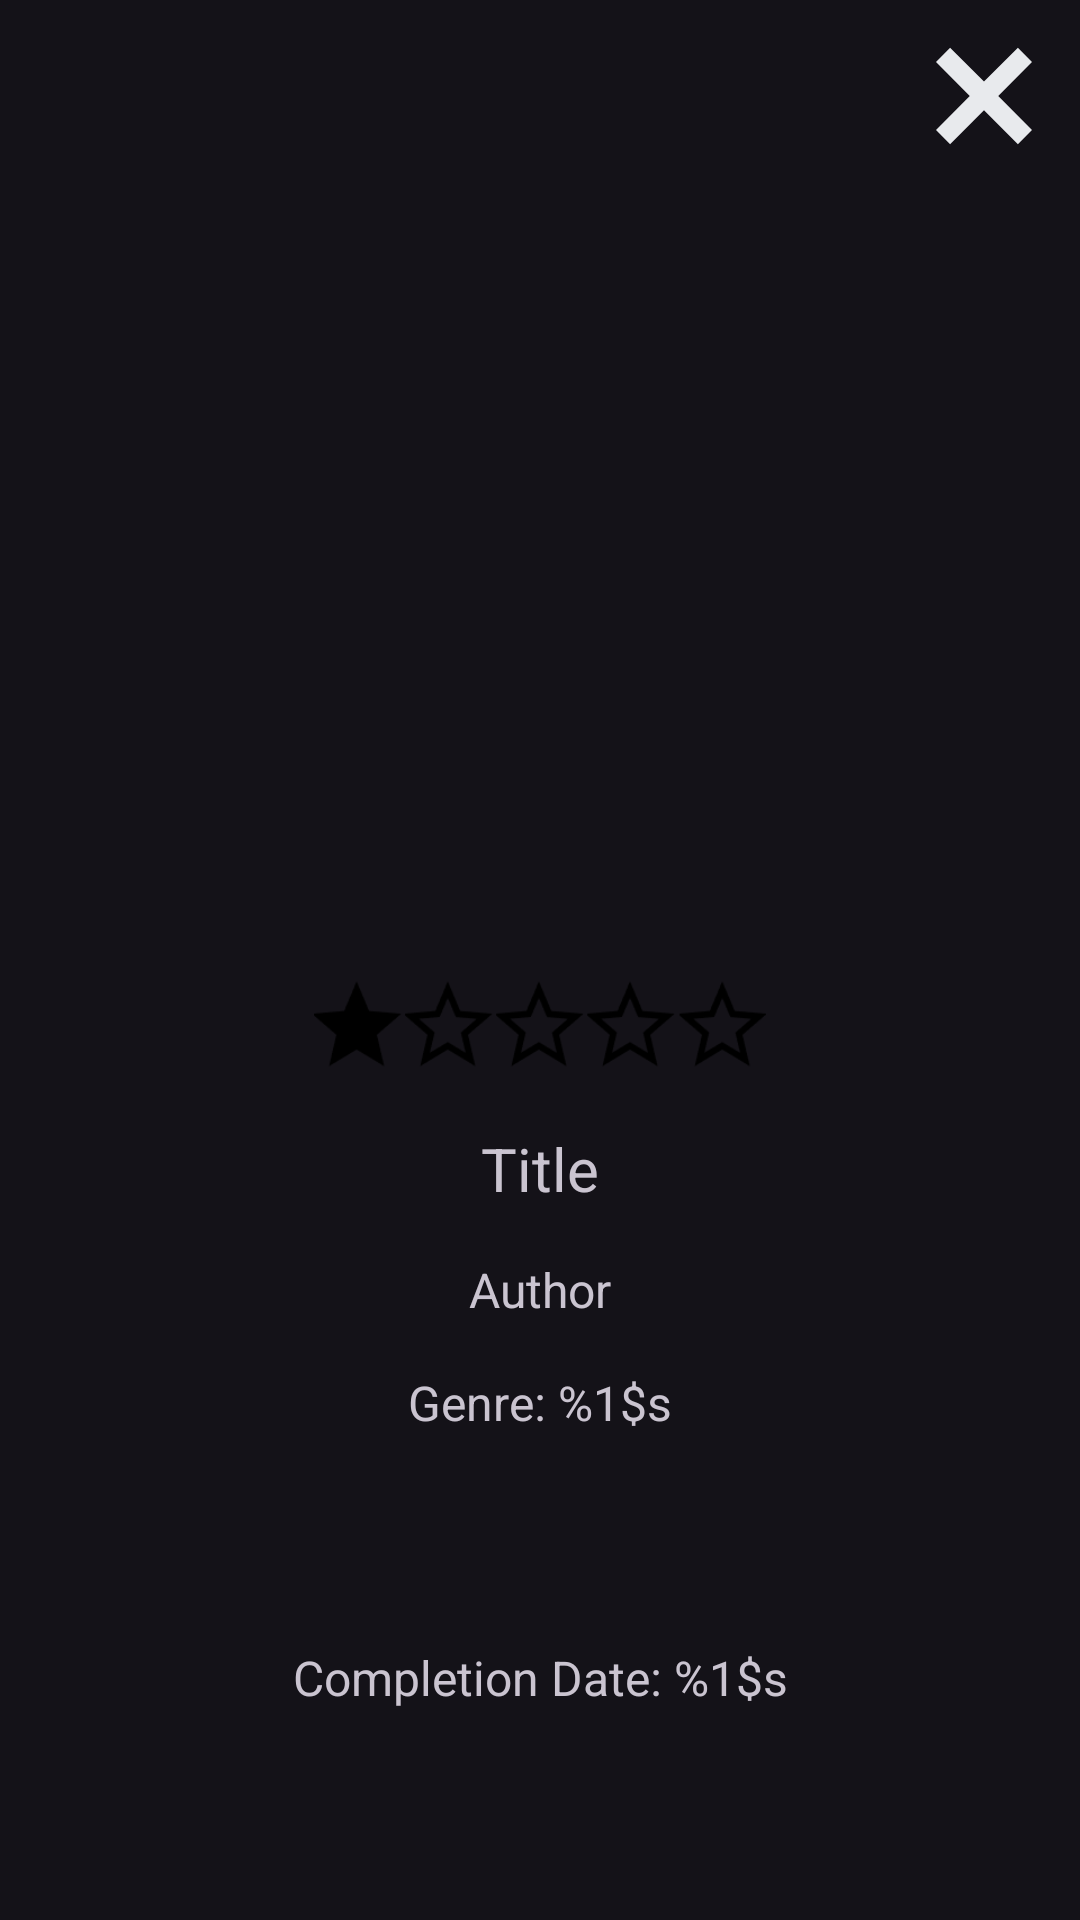

Screen size 1080×1920. Icon name, then its box in pixels as rect(x1, y1, x2, y2):
close: rect(936, 48, 1032, 144)
